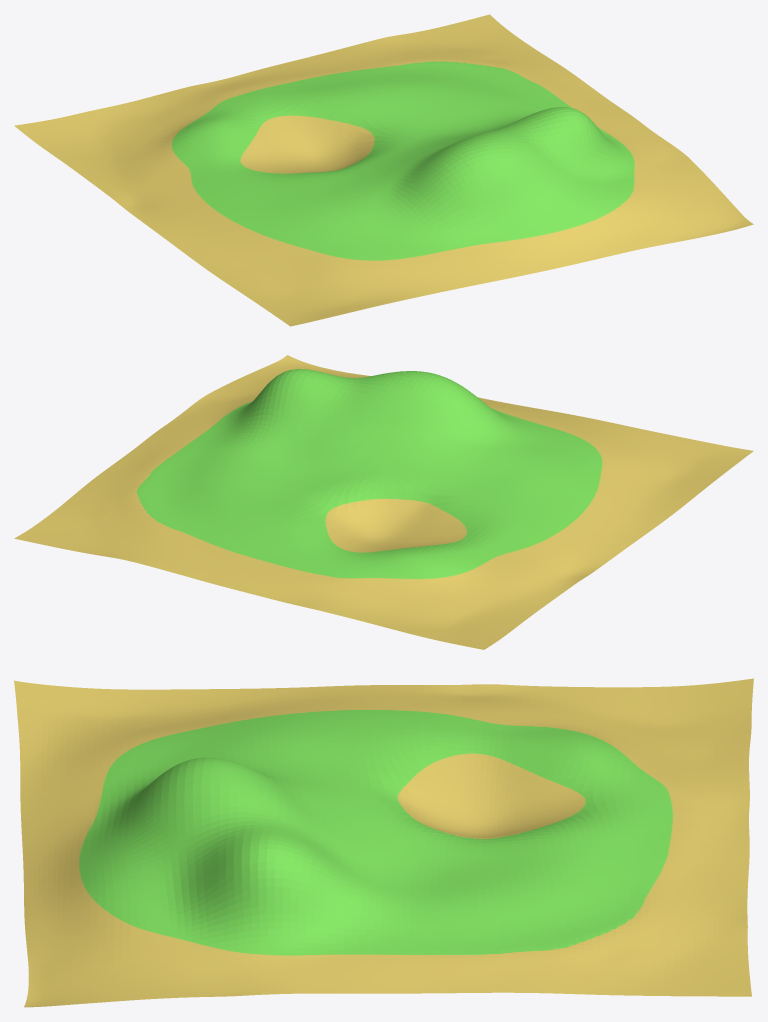
Rendered from greenary.glb.
The picture shows the model from 3 angles, top to bottom: view 1: azimuth 30°, elevation 25°; view 2: azimuth 150°, elevation 25°; view 3: azimuth 270°, elevation 25°; orthographic projection. The views are drawn at different scales.
Visible parts, largest first — view 1: Plane; view 2: Plane; view 3: Plane.
Boxes of the visible parts, <box> form: Plane: <box>14,14,753,326</box>; Plane: <box>14,355,753,649</box>; Plane: <box>14,678,753,1007</box>.
Bounding box in the file's own units: 110 × 17.76 × 109.
1 material, 1 textured.
